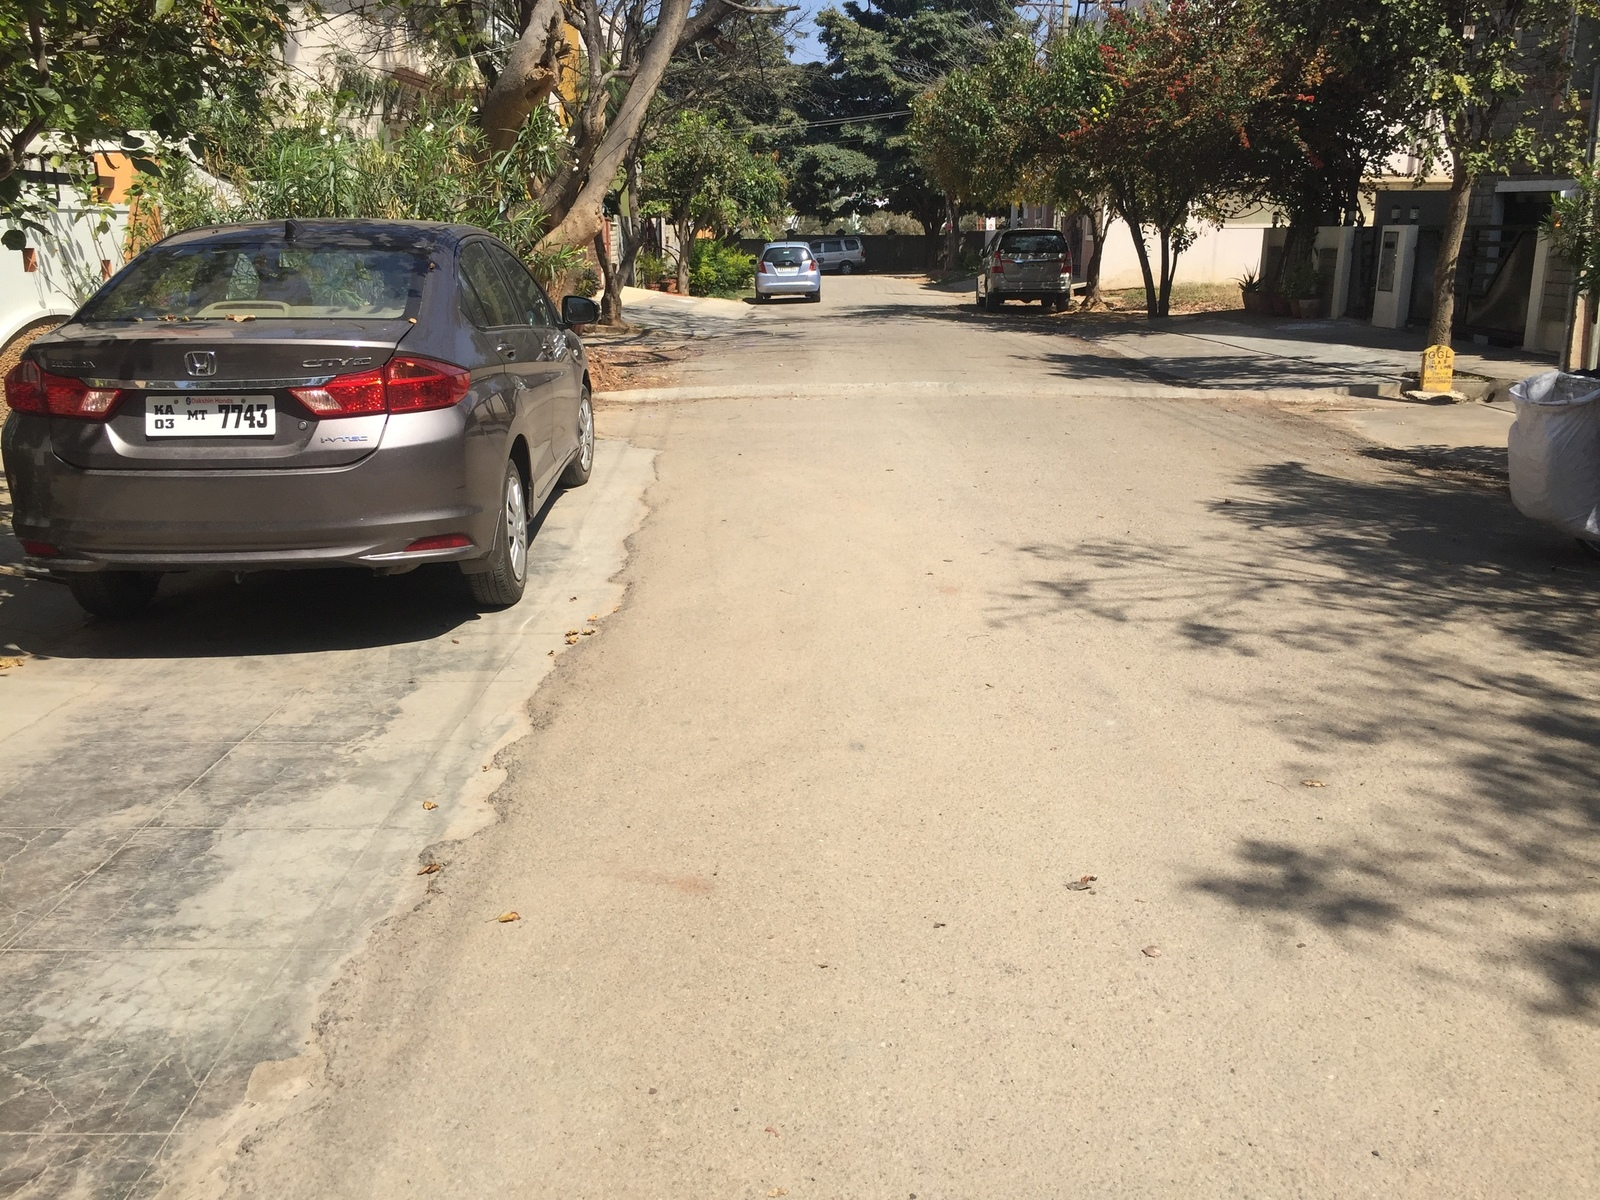bump: (609, 374, 1357, 413)
